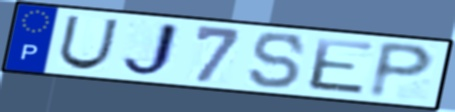7: (193, 23, 244, 85)
E: (306, 36, 377, 97)
J: (118, 20, 183, 80)
P: (365, 39, 438, 101)
S: (247, 31, 309, 90)
U: (55, 13, 122, 71)
